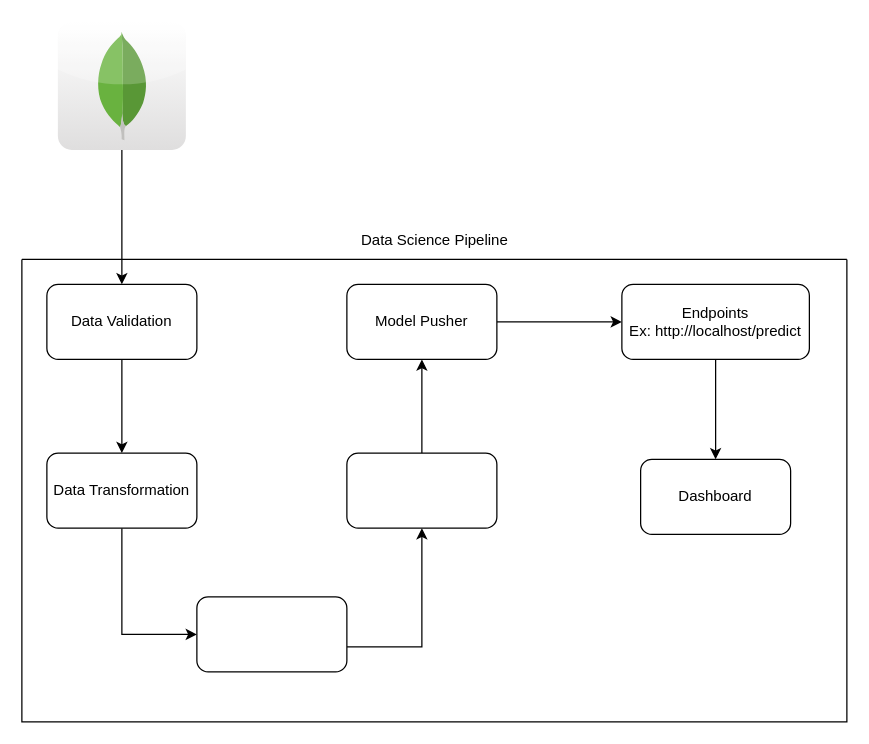
Some shapes in this 869 by 744 pixel diagram are drawn without their labels. Each missing label, with the box of its shape:
Model Building: (196, 596, 347, 672)
Model Evaluation: (346, 452, 497, 528)
MongoDB Database: (57, 21, 186, 150)
